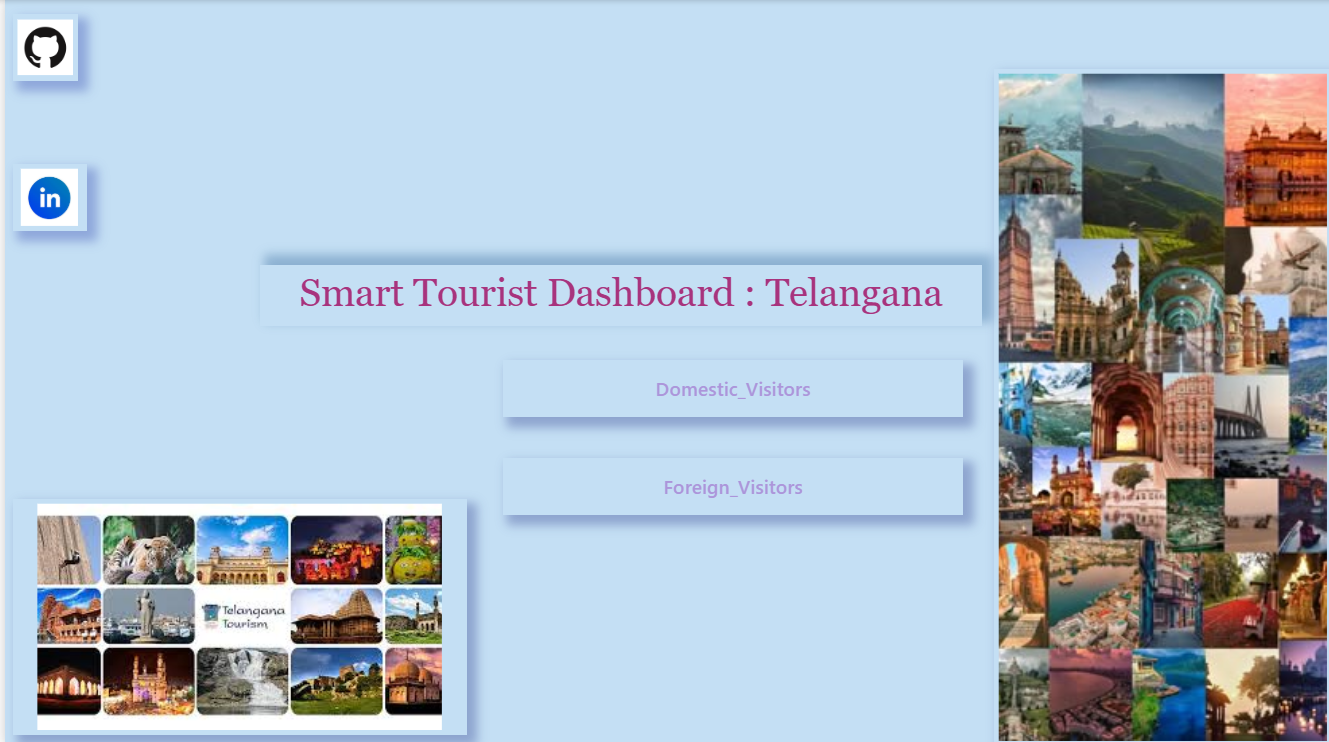

What the dashboard file says about the page in this screenshot:
{"tool":"powerbi","page":{"name":"Smart Tourist Dashboard : Telangana","canvas":[1280,720],"ordinal":0},"visuals":[{"type":"textbox","box":[246.1,255.8,696.8,59.5],"z":0},{"type":"image","box":[6.9,13.8,63.6,65],"z":2000},{"type":"image","box":[6.9,157.6,71.9,65],"z":3000},{"type":"actionButton","box":[479.8,347,445.2,55.3],"z":4000},{"type":"actionButton","box":[479.8,441,445.2,55.3],"z":5000},{"type":"image","box":[954,66.4,326.3,654],"z":6000},{"type":"image","box":[6.9,481.1,438.3,228.1],"z":7000}]}

Visuals, with their boxes in screenshot pixels (x1, y1, x2, y2), scaled from the page's 1280x720 canvas onto the 1329x742 screenshot:
textbox: <region>256, 264, 979, 325</region>
image: <region>7, 14, 73, 81</region>
image: <region>7, 162, 82, 229</region>
actionButton: <region>498, 358, 960, 415</region>
actionButton: <region>498, 454, 960, 511</region>
image: <region>991, 68, 1328, 741</region>
image: <region>7, 496, 462, 731</region>
